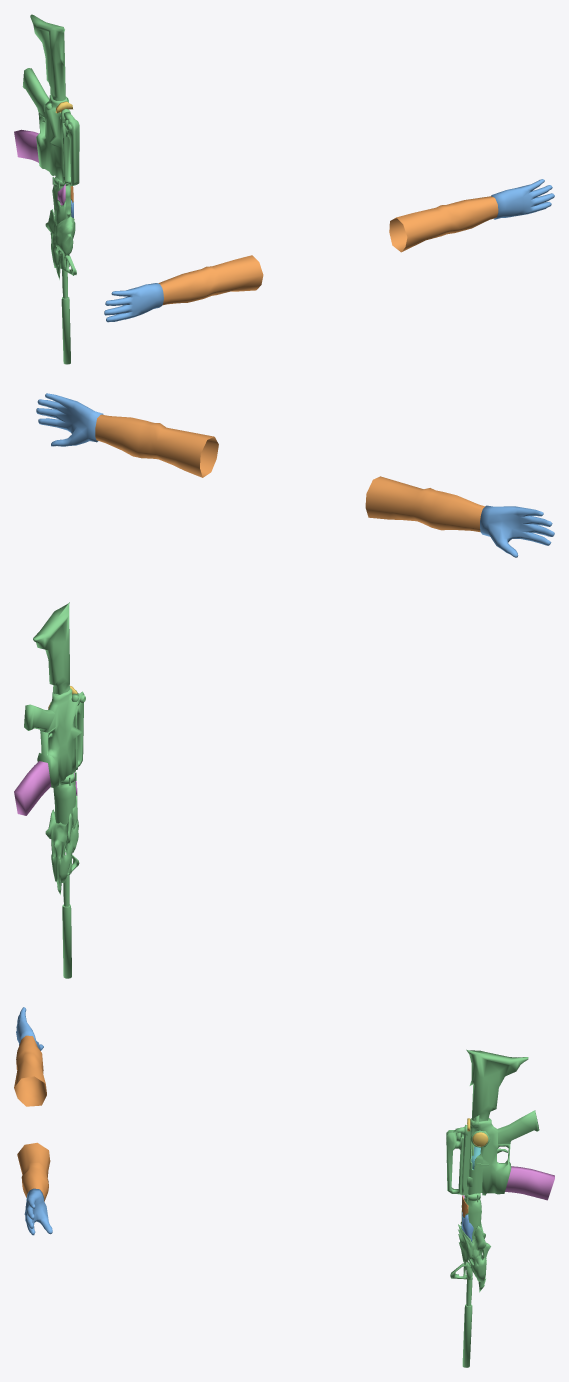
The model's file is PV-M4A1_S_Transformers_c3_aligned.obj.
3 renders of one model, top to bottom at view 1: azimuth 30°, elevation 25°; view 2: azimuth 150°, elevation 25°; view 3: azimuth 270°, elevation 25°, orthographic. The views are drawn at different scales.
Parts seen in each view (by area): view 1: PV-M4A1_S_Transformers_M4A1_transformers_Body, PV-M4A1_S_Transformers_Fview-arm2, PV-M4A1_S_Transformers_Fview-hand2, PV-M4A1_S_Transformers_M4A1_transformers_MAG; view 2: PV-M4A1_S_Transformers_M4A1_transformers_Body, PV-M4A1_S_Transformers_Fview-arm2, PV-M4A1_S_Transformers_Fview-hand2, PV-M4A1_S_Transformers_M4A1_transformers_MAG; view 3: PV-M4A1_S_Transformers_M4A1_transformers_Body, PV-M4A1_S_Transformers_Fview-arm2, PV-M4A1_S_Transformers_Fview-hand2, PV-M4A1_S_Transformers_M4A1_transformers_MAG.
Part boxes in pixels (x1,y1,x2,y2): PV-M4A1_S_Transformers_M4A1_transformers_Body: (22,14,79,364); PV-M4A1_S_Transformers_Fview-arm2: (158,196,498,305); PV-M4A1_S_Transformers_Fview-hand2: (104,179,554,322); PV-M4A1_S_Transformers_M4A1_transformers_MAG: (14,129,38,162); PV-M4A1_S_Transformers_M4A1_transformers_Body: (24,602,85,978); PV-M4A1_S_Transformers_Fview-arm2: (95,414,484,532); PV-M4A1_S_Transformers_Fview-hand2: (36,393,554,557); PV-M4A1_S_Transformers_M4A1_transformers_MAG: (14,761,51,815); PV-M4A1_S_Transformers_M4A1_transformers_Body: (446,1049,539,1367); PV-M4A1_S_Transformers_Fview-arm2: (14,1035,50,1201); PV-M4A1_S_Transformers_Fview-hand2: (16,1007,52,1235); PV-M4A1_S_Transformers_M4A1_transformers_MAG: (505,1166,554,1200).
Bounding box in the file's own units: 50.88 × 35.66 × 55.32.
